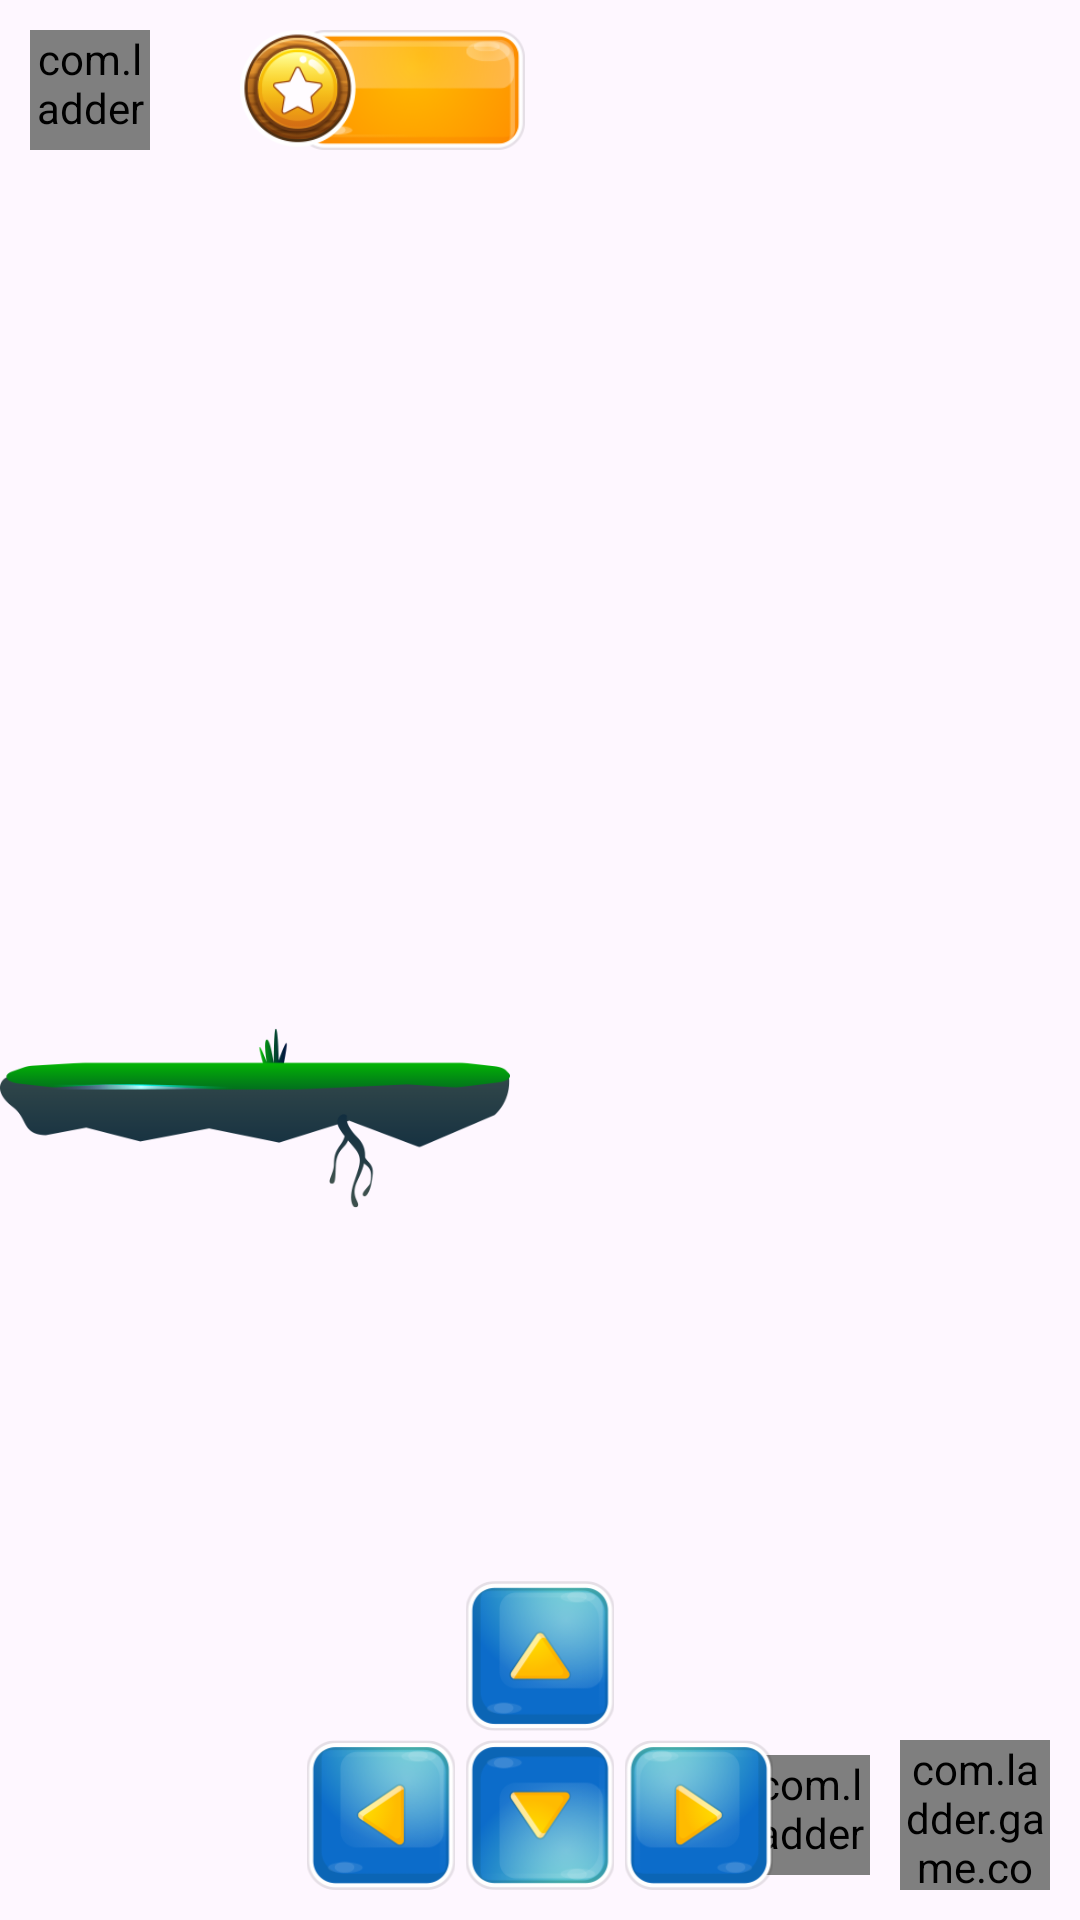

Locate icon controls on the screen. Image size 1080w x 1920h, boxes as (x1, y1, x2, y2).
score: (244, 30, 525, 150)
